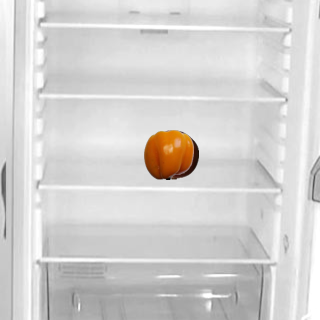Apple Braeburn: (148, 129, 198, 179)
Pepper Yellow: (143, 129, 193, 179)
